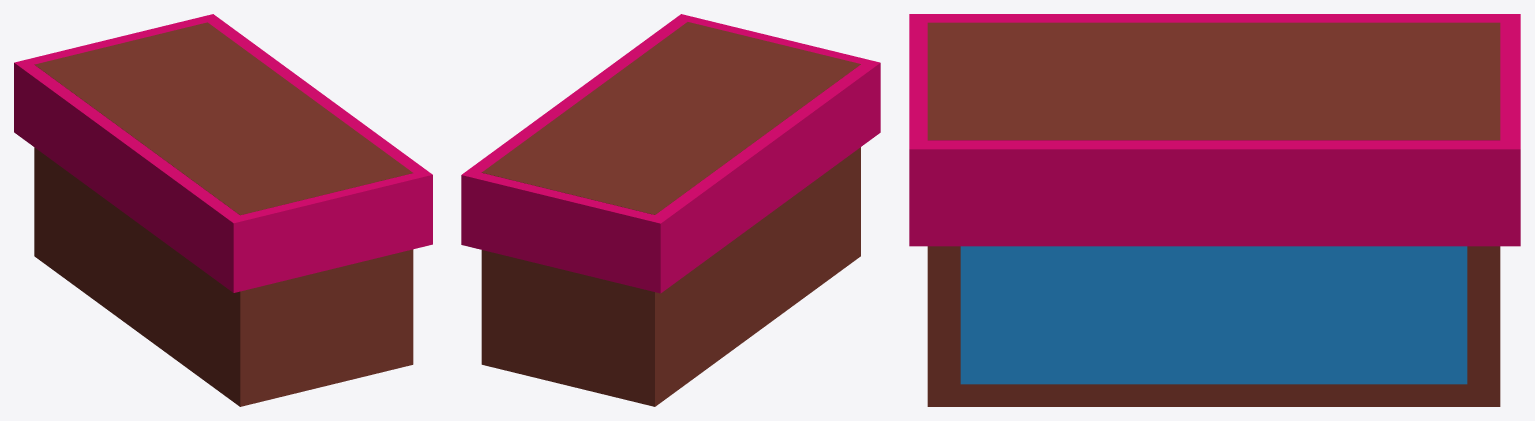
The model's file is danso_100.fbx.
The picture shows the model from 3 angles, left to right: view 1: azimuth 30°, elevation 25°; view 2: azimuth 150°, elevation 25°; view 3: azimuth 270°, elevation 25°; orthographic projection. The views are drawn at different scales.
Visible parts, largest first — view 1: Cube, Cube.001; view 2: Cube, Cube.001; view 3: Cube, Cube.001, Cube.002.
Boxes of the visible parts, x1,y1,x2,y2 form: Cube: (34,22,413,406); Cube.001: (14,14,432,292); Cube: (481,22,860,406); Cube.001: (461,14,880,293); Cube: (927,22,1500,406); Cube.001: (909,14,1520,246); Cube.002: (960,246,1467,384).
Bounding box in the file's own units: 346 × 319 × 662.
